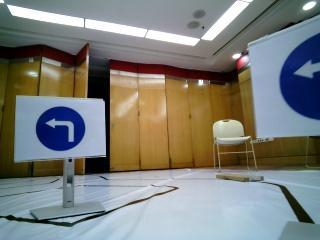left: (9, 95, 103, 153)
